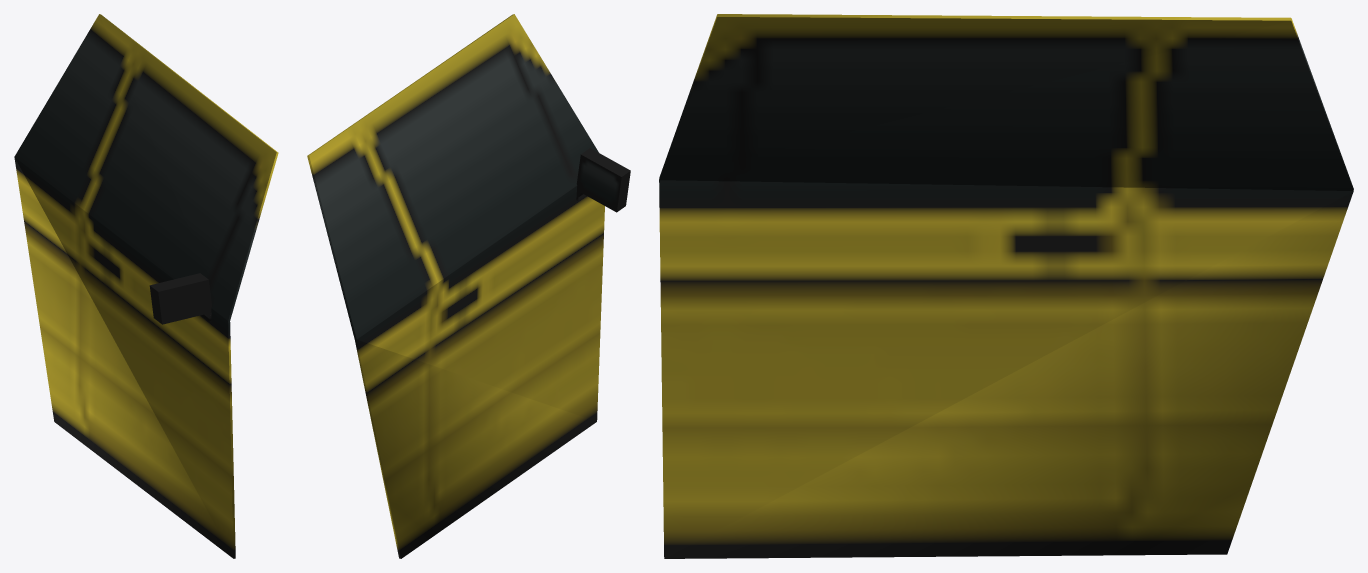
The model's file is car_cricket_yellow_door_FR.obj.
The picture shows the model from 3 angles, left to right: view 1: azimuth 30°, elevation 25°; view 2: azimuth 150°, elevation 25°; view 3: azimuth 270°, elevation 25°; orthographic projection. The views are drawn at different scales.
Visible parts, largest first — view 1: Car3.001; view 2: Car3.001; view 3: Car3.001.
Part boxes in pixels (box(x1,y1,x2,y2)): Car3.001: box(14, 14, 278, 558); Car3.001: box(307, 14, 630, 558); Car3.001: box(659, 14, 1353, 558).
Size of the model in its own units: 0.6 by 1.78 by 1.89.
